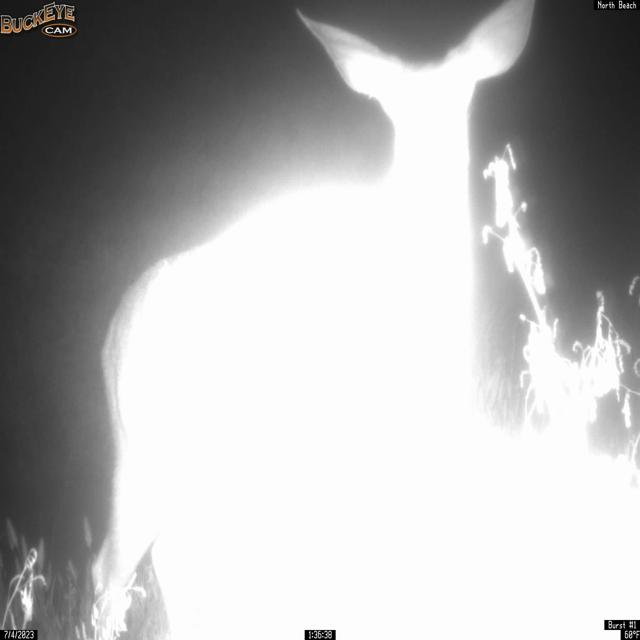deer: (91, 8, 526, 614)
